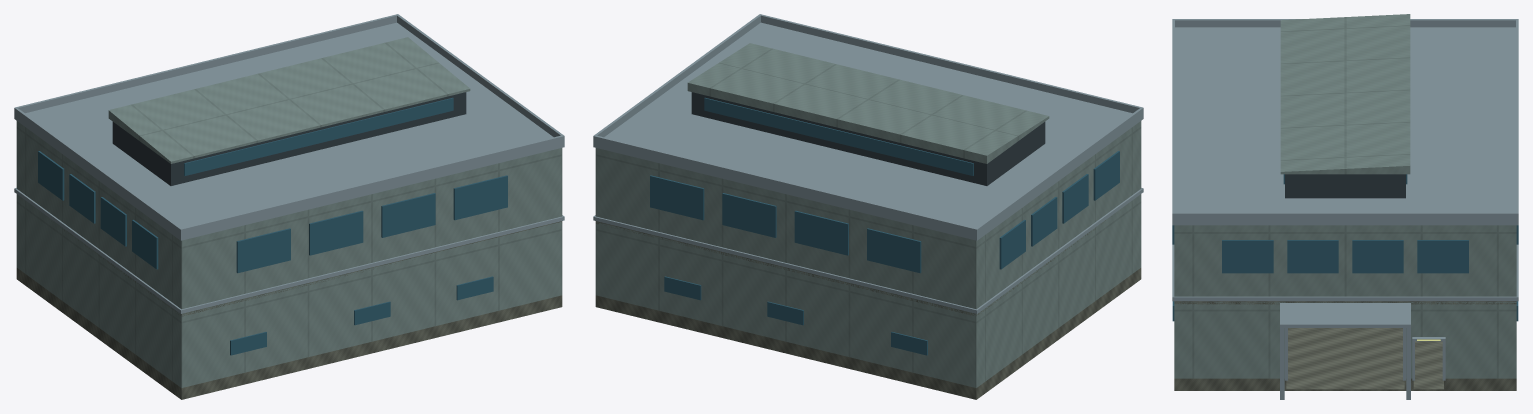
File: Karden_Logistics.glb
The picture shows the model from 3 angles, left to right: view 1: azimuth 30°, elevation 25°; view 2: azimuth 150°, elevation 25°; view 3: azimuth 270°, elevation 25°; orthographic projection. The views are drawn at different scales.
Visible parts, largest first — view 1: Karden_Logistics_Roof, Karden_Logistics_GroundShell, Karden_Logistics_RoofMonitor, Karden_Logistics_Upper1_Shell_F1, Karden_Logistics_Upper1_SideGlazing_F1, Karden_Logistics_Foundation, Karden_Logistics_Upper1_EndGlazing_F1, Karden_Logistics_Upper1_SlabBand_F1, Karden_Logistics_GroundWindows, Karden_Logistics_TerraceDeck_1; view 2: Karden_Logistics_Roof, Karden_Logistics_GroundShell, Karden_Logistics_Upper1_Shell_F1, Karden_Logistics_RoofMonitor, Karden_Logistics_Upper1_SideGlazing_F1, Karden_Logistics_Foundation, Karden_Logistics_Upper1_EndGlazing_F1, Karden_Logistics_Upper1_SlabBand_F1, Karden_Logistics_GroundWindows, Karden_Logistics_TerraceDeck_1; view 3: Karden_Logistics_Roof, Karden_Logistics_RoofMonitor, Karden_Logistics_Upper1_Shell_F1, Karden_Logistics_GroundShell, Karden_Logistics_Foundation, Karden_Logistics_Upper1_EndGlazing_F1, Karden_Logistics_PortalFixture, Karden_Logistics_Upper1_SlabBand_F1, Karden_Logistics_ThresholdRamp, Karden_Logistics_TerraceDeck_1, Karden_Logistics_PortalFrame.
Boxes of the visible parts, x1=… form: Karden_Logistics_Roof: x1=14, y1=14, x2=564, y2=240; Karden_Logistics_GroundShell: x1=16, y1=194, x2=562, y2=387; Karden_Logistics_RoofMonitor: x1=108, y1=37, x2=470, y2=185; Karden_Logistics_Upper1_Shell_F1: x1=16, y1=121, x2=562, y2=314; Karden_Logistics_Upper1_SideGlazing_F1: x1=236, y1=175, x2=507, y2=273; Karden_Logistics_Foundation: x1=16, y1=268, x2=562, y2=399; Karden_Logistics_Upper1_EndGlazing_F1: x1=38, y1=151, x2=158, y2=269; Karden_Logistics_Upper1_SlabBand_F1: x1=14, y1=188, x2=564, y2=313; Karden_Logistics_GroundWindows: x1=230, y1=276, x2=493, y2=355; Karden_Logistics_TerraceDeck_1: x1=60, y1=221, x2=562, y2=316; Karden_Logistics_Roof: x1=593, y1=14, x2=1143, y2=240; Karden_Logistics_GroundShell: x1=595, y1=194, x2=1141, y2=387; Karden_Logistics_Upper1_Shell_F1: x1=595, y1=121, x2=1141, y2=313; Karden_Logistics_RoofMonitor: x1=687, y1=43, x2=1049, y2=185; Karden_Logistics_Upper1_SideGlazing_F1: x1=650, y1=175, x2=921, y2=273; Karden_Logistics_Foundation: x1=595, y1=268, x2=1141, y2=399; Karden_Logistics_Upper1_EndGlazing_F1: x1=999, y1=151, x2=1119, y2=269; Karden_Logistics_Upper1_SlabBand_F1: x1=593, y1=188, x2=1143, y2=313; Karden_Logistics_GroundWindows: x1=664, y1=276, x2=927, y2=355; Karden_Logistics_TerraceDeck_1: x1=595, y1=220, x2=1105, y2=315; Karden_Logistics_Roof: x1=1172, y1=19, x2=1518, y2=225; Karden_Logistics_RoofMonitor: x1=1280, y1=14, x2=1410, y2=198; Karden_Logistics_Upper1_Shell_F1: x1=1174, y1=225, x2=1516, y2=301; Karden_Logistics_GroundShell: x1=1174, y1=302, x2=1516, y2=378; Karden_Logistics_Foundation: x1=1174, y1=328, x2=1516, y2=390; Karden_Logistics_Upper1_EndGlazing_F1: x1=1222, y1=240, x2=1468, y2=273; Karden_Logistics_PortalFixture: x1=1280, y1=303, x2=1410, y2=399; Karden_Logistics_Upper1_SlabBand_F1: x1=1172, y1=244, x2=1518, y2=301; Karden_Logistics_ThresholdRamp: x1=1286, y1=378, x2=1443, y2=390; Karden_Logistics_TerraceDeck_1: x1=1174, y1=301, x2=1516, y2=304; Karden_Logistics_PortalFrame: x1=1285, y1=328, x2=1445, y2=380.
Size of the model in its own units: 26.8 by 11.85 by 18.21.
7 materials, 2 textured.
